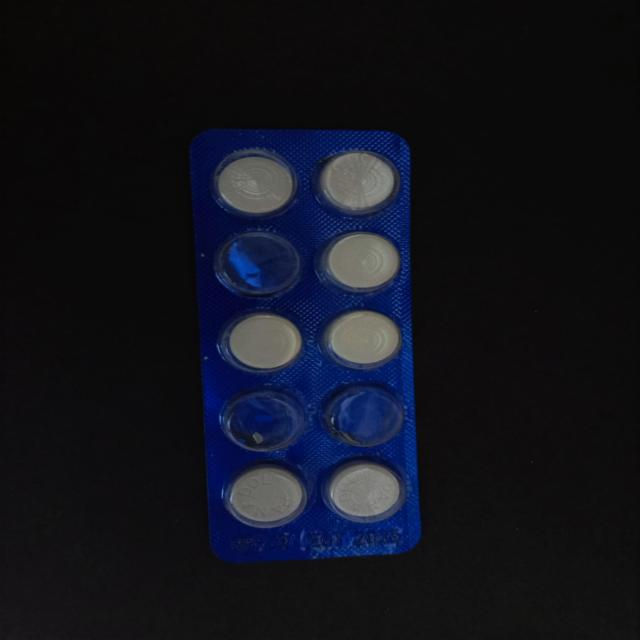defect: (208, 228, 305, 300), (217, 385, 310, 456), (317, 380, 411, 449)
